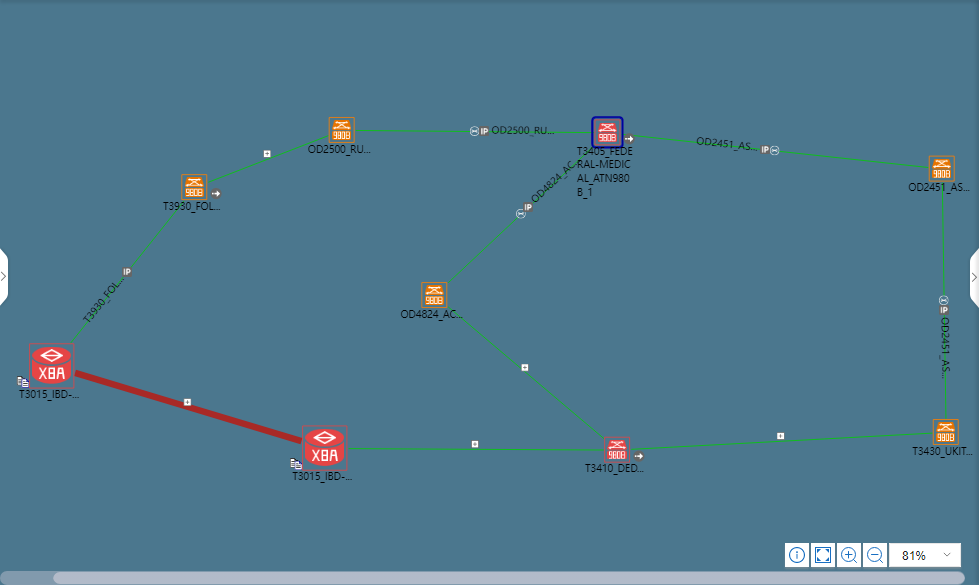ATN_Orange: (927, 155, 956, 184), (933, 418, 962, 447), (187, 179, 210, 202), (425, 283, 448, 306), (333, 118, 356, 140)
ATN_Red: (603, 436, 632, 465), (597, 124, 620, 147)
Link_Green: (450, 308, 607, 441), (450, 149, 587, 280), (70, 204, 179, 341), (627, 130, 932, 172), (633, 430, 927, 453), (205, 136, 318, 182), (939, 185, 950, 423)
Link_Red: (76, 369, 300, 447)
Router_Red: (303, 424, 350, 471), (28, 345, 75, 386)
